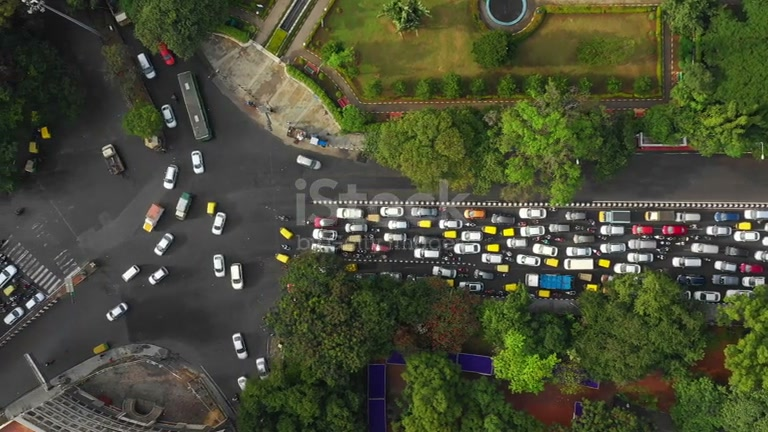car: (101, 143, 127, 175), (174, 191, 193, 220), (147, 266, 170, 286), (163, 162, 179, 189)
